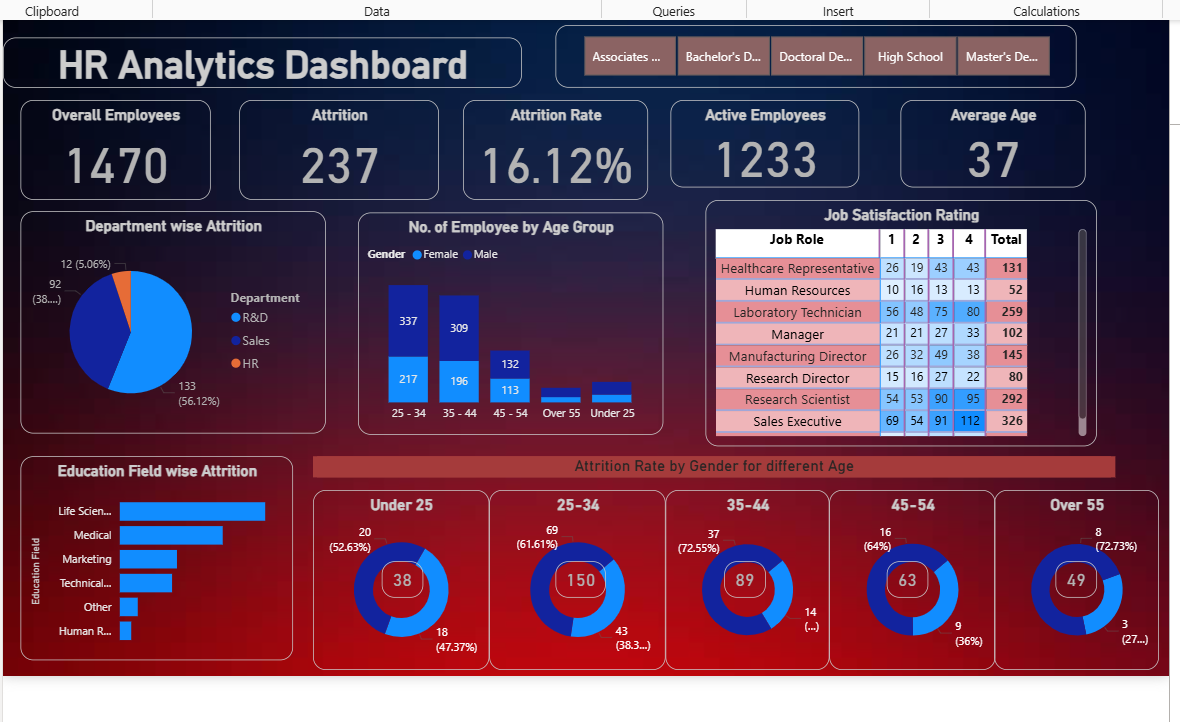

Layout of this report page (visuals, bound fields, positions):
{"tool":"powerbi","page":{"name":"Page 1","canvas":[1280,720],"ordinal":0},"visuals":[{"type":"card","title":"Overall Employees","fields":{"Values":["Sum(HR data.Employee Count)"]},"box":[19.2,87.8,208.6,109.8],"z":0},{"type":"card","title":"Attrition","fields":{"Values":["Sum(HR data.Attrition Count)"]},"box":[259.3,87.8,219.6,109.8],"z":1000},{"type":"card","title":"Attrition Rate","fields":{"Values":["HR data.Attrition rate"]},"box":[505,87.8,203.1,109.8],"z":2000},{"type":"card","title":"Active Employees","fields":{"Values":["HR data.Active Employees"]},"box":[732.8,87.8,207.2,96.1],"z":3000},{"type":"card","title":"Average Age","fields":{"Values":["Avg(HR data.Age)"]},"box":[985.3,87.8,203.1,96.1],"z":4000},{"type":"pieChart","title":"Department wise Attrition","fields":{"Category":["HR data.Department"],"Y":["Sum(HR data.Attrition Count)"]},"box":[19.2,209.9,334.8,244.3],"z":5000},{"type":"columnChart","title":"No. of Employee by Age Group","fields":{"Category":["HR data.CF_age band"],"Y":["Sum(HR data.Employee Count)"],"Series":["HR data.Gender"]},"box":[389.7,211.3,334.8,244.3],"z":6000},{"type":"pivotTable","title":"Job Satisfaction Rating","fields":{"Rows":["HR data.Job Role"],"Columns":["HR data.Job Satisfaction"],"Values":["Sum(HR data.Employee Count)"]},"box":[771.2,197.6,429.5,270.3],"z":6001},{"type":"barChart","title":"Education  Field wise Attrition","fields":{"Category":["HR data.Education Field"],"Y":["Sum(HR data.Attrition Count)"]},"box":[19.2,478.9,299.1,223.7],"z":6002},{"type":"donutChart","title":"Under 25","fields":{"Category":["HR data.Gender"],"Y":["Sum(HR data.Attrition Count)"],"Series":["HR data.CF_age band"]},"box":[340.3,516,193.5,197.6],"z":6003},{"type":"textbox","title":"Attrition Rate by Gender for different Age","box":[340.3,478.9,881,23.3],"z":6004},{"type":"donutChart","title":" 25-34","fields":{"Category":["HR data.Gender"],"Y":["Sum(HR data.Attrition Count)"],"Series":["HR data.CF_age band"]},"box":[533.8,516,193.5,197.6],"z":6005},{"type":"donutChart","title":"35-44","fields":{"Category":["HR data.Gender"],"Y":["Sum(HR data.Attrition Count)"],"Series":["HR data.CF_age band"]},"box":[727.3,516,179.8,197.6],"z":6006},{"type":"donutChart","title":"45-54","fields":{"Category":["HR data.Gender"],"Y":["Sum(HR data.Attrition Count)"],"Series":["HR data.CF_age band"]},"box":[907,516,182.5,197.6],"z":6007},{"type":"donutChart","title":"Over 55","fields":{"Category":["HR data.Gender"],"Y":["Sum(HR data.Attrition Count)"],"Series":["HR data.CF_age band"]},"box":[1088.2,516,181.1,197.6],"z":6008},{"type":"card","fields":{"Values":["Sum(HR data.Attrition Count)"]},"box":[415.8,594.2,45.3,39.8],"z":6009},{"type":"card","fields":{"Values":["Sum(HR data.Attrition Count)"]},"box":[606.5,594.2,54.9,39.8],"z":6010},{"type":"card","fields":{"Values":["Sum(HR data.Attrition Count)"]},"box":[791.8,594.2,45.3,39.8],"z":6011},{"type":"card","fields":{"Values":["Sum(HR data.Attrition Count)"]},"box":[970.2,594.2,45.3,39.8],"z":6012},{"type":"card","fields":{"Values":["Sum(HR data.Attrition Count)"]},"box":[1155.4,594.2,45.3,39.8],"z":6013},{"type":"textbox","title":"HR Analytics Dashboard","box":[0,19.2,569.5,54.9],"z":6014},{"type":"slicer","fields":{"Values":["HR data.Education"]},"box":[606.5,5.5,572.2,68.6],"z":6015}]}

Visuals, with their boxes on the page's 1280x720 design canvas (x1, y1, x2, y2). These are canvas units, not pixel positions in the 1180x722 screenshot, which may show the page scaled, cropped or inside an application window:
"Overall Employees" card: 19 88 228 198
"Attrition" card: 259 88 479 198
"Attrition Rate" card: 505 88 708 198
"Active Employees" card: 733 88 940 184
"Average Age" card: 985 88 1188 184
"Department wise Attrition" pieChart: 19 210 354 454
"No. of Employee by Age Group" columnChart: 390 211 724 456
"Job Satisfaction Rating" pivotTable: 771 198 1201 468
"Education  Field wise Attrition" barChart: 19 479 318 703
"Under 25" donutChart: 340 516 534 714
"Attrition Rate by Gender for different Age" textbox: 340 479 1221 502
" 25-34" donutChart: 534 516 727 714
"35-44" donutChart: 727 516 907 714
"45-54" donutChart: 907 516 1090 714
"Over 55" donutChart: 1088 516 1269 714
card - Sum(HR data.Attrition Count): 416 594 461 634
card - Sum(HR data.Attrition Count): 606 594 661 634
card - Sum(HR data.Attrition Count): 792 594 837 634
card - Sum(HR data.Attrition Count): 970 594 1016 634
card - Sum(HR data.Attrition Count): 1155 594 1201 634
"HR Analytics Dashboard" textbox: 0 19 570 74
slicer - HR data.Education: 606 6 1179 74
